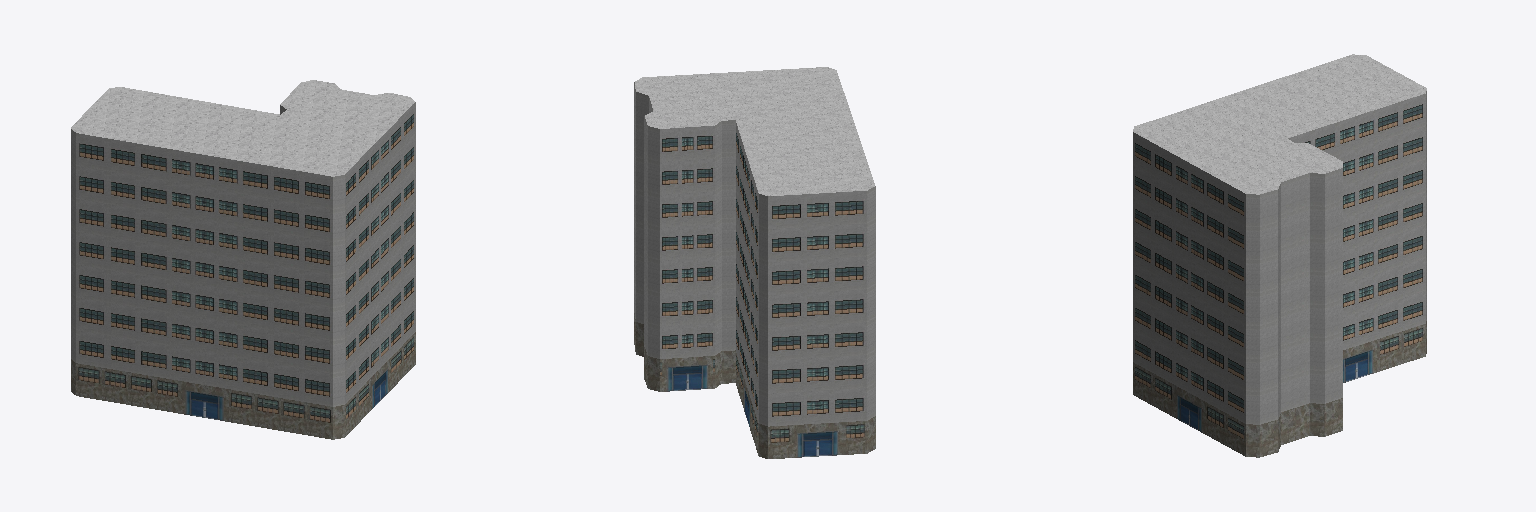
3 views of the same model, side by side, from view 1: azimuth 30°, elevation 25°; view 2: azimuth 150°, elevation 25°; view 3: azimuth 270°, elevation 25° (orthographic).
Parts seen in each view (by area): view 1: BuildingMaster_[number redacted]_0, BuildingMaster_[number redacted]_1; view 2: BuildingMaster_[number redacted]_0, BuildingMaster_[number redacted]_1; view 3: BuildingMaster_[number redacted]_0, BuildingMaster_[number redacted]_1.
Part boxes in pixels (bbox=[...]): BuildingMaster_[number redacted]_0: bbox=[71, 102, 415, 439]; BuildingMaster_[number redacted]_1: bbox=[71, 80, 414, 176]; BuildingMaster_[number redacted]_0: bbox=[634, 82, 875, 458]; BuildingMaster_[number redacted]_1: bbox=[635, 67, 874, 195]; BuildingMaster_[number redacted]_0: bbox=[1133, 91, 1426, 457]; BuildingMaster_[number redacted]_1: bbox=[1133, 54, 1426, 194].
Bounding box in the file's own units: 32.02 × 28 × 28.43.
2 materials, 2 textured.